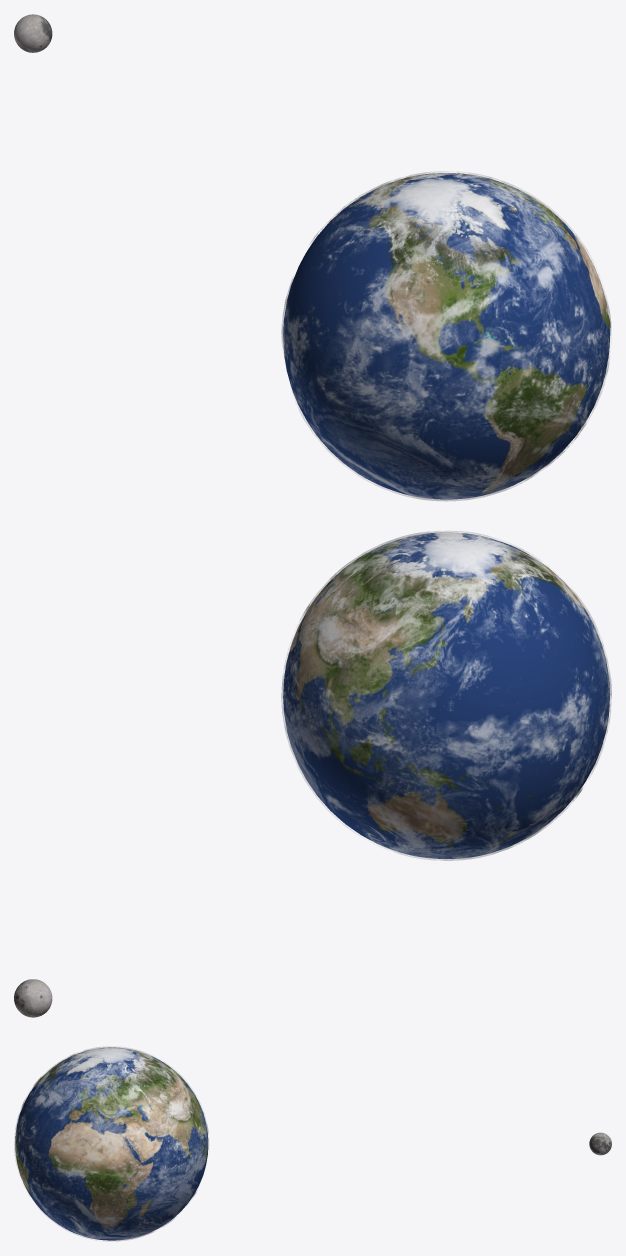
Rendered from earth.glb.
3 views of the same model, one above another, from view 1: azimuth 30°, elevation 25°; view 2: azimuth 150°, elevation 25°; view 3: azimuth 270°, elevation 25° (orthographic). The views are drawn at different scales.
Visible parts, largest first — view 1: Sphere.001, Sphere; view 2: Sphere.001, Sphere; view 3: Sphere.001, Sphere.
Part boxes in pixels (left/top/right/bottom): Sphere.001: left=281, top=171, right=611, bottom=501; Sphere: left=14, top=14, right=52, bottom=52; Sphere.001: left=281, top=530, right=611, bottom=860; Sphere: left=14, top=979, right=52, bottom=1017; Sphere.001: left=14, top=1046, right=209, bottom=1241; Sphere: left=589, top=1132, right=611, bottom=1155.
Size of the model in its own units: 2.02 by 2.02 by 6.18.
Materials: 3 (3 with a texture image).
